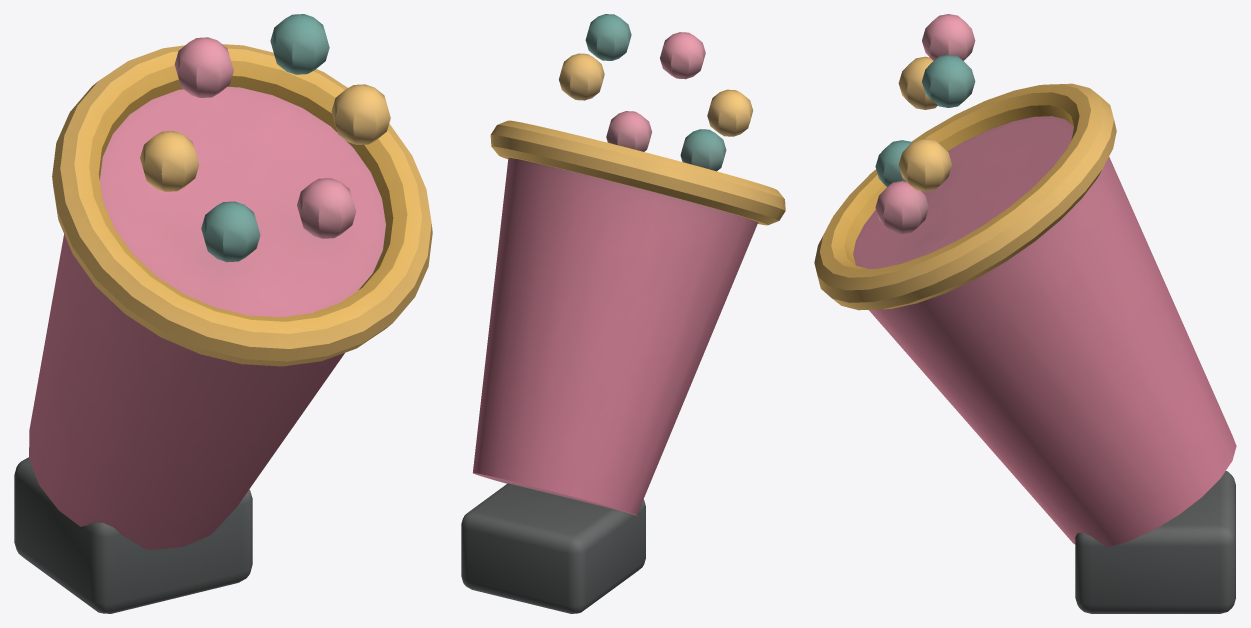
The model's file is ConfettiCannon.fbx.
The picture shows the model from 3 angles, left to right: view 1: azimuth 30°, elevation 25°; view 2: azimuth 150°, elevation 25°; view 3: azimuth 270°, elevation 25°; orthographic projection. The views are drawn at different scales.
Visible parts, largest first — view 1: ConfettiCannon; view 2: ConfettiCannon; view 3: ConfettiCannon.
Part boxes in pixels (<box>): ConfettiCannon: <box>14,14,432,613</box>; ConfettiCannon: <box>461,14,785,613</box>; ConfettiCannon: <box>814,14,1236,613</box>.
Size of the model in its own units: 64 by 113 by 78.82.
